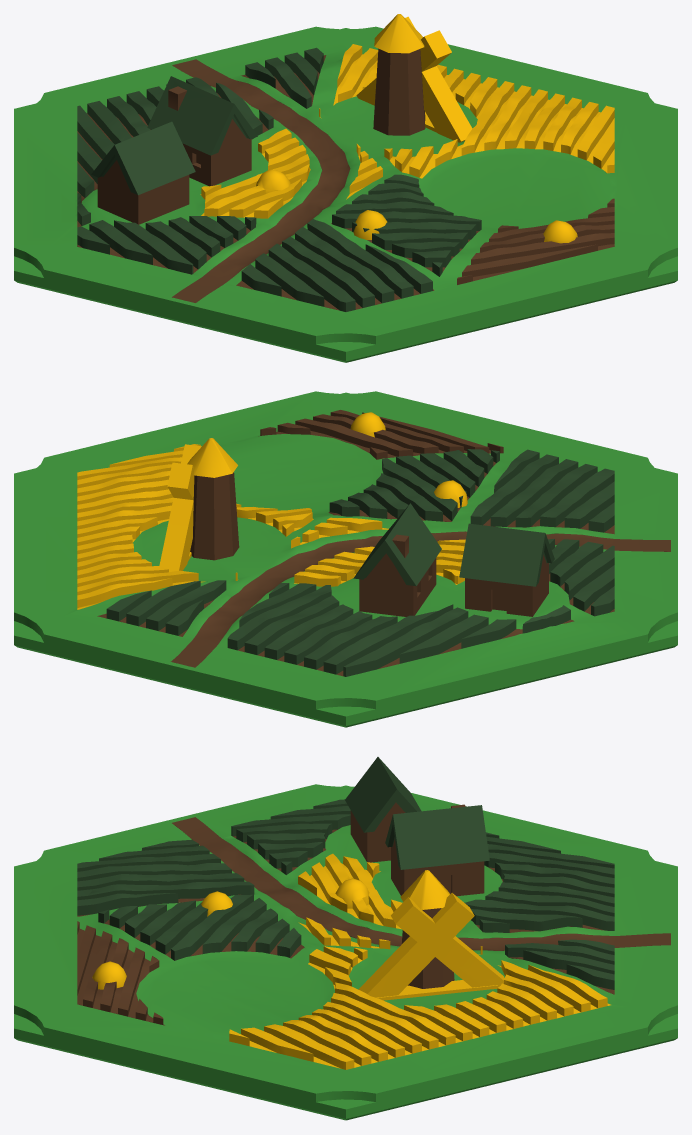
The model's file is feld_1.glb.
3 views of the same model, one above another, from view 1: azimuth 30°, elevation 25°; view 2: azimuth 150°, elevation 25°; view 3: azimuth 270°, elevation 25° (orthographic).
Visible parts, largest first — view 1: feld_1; view 2: feld_1; view 3: feld_1.
Boxes of the visible parts, <box> form: feld_1: <box>14,14,677,362</box>; feld_1: <box>14,391,677,727</box>; feld_1: <box>14,757,677,1120</box>.
Size of the model in its own units: 65.24 by 12.69 by 56.5.
